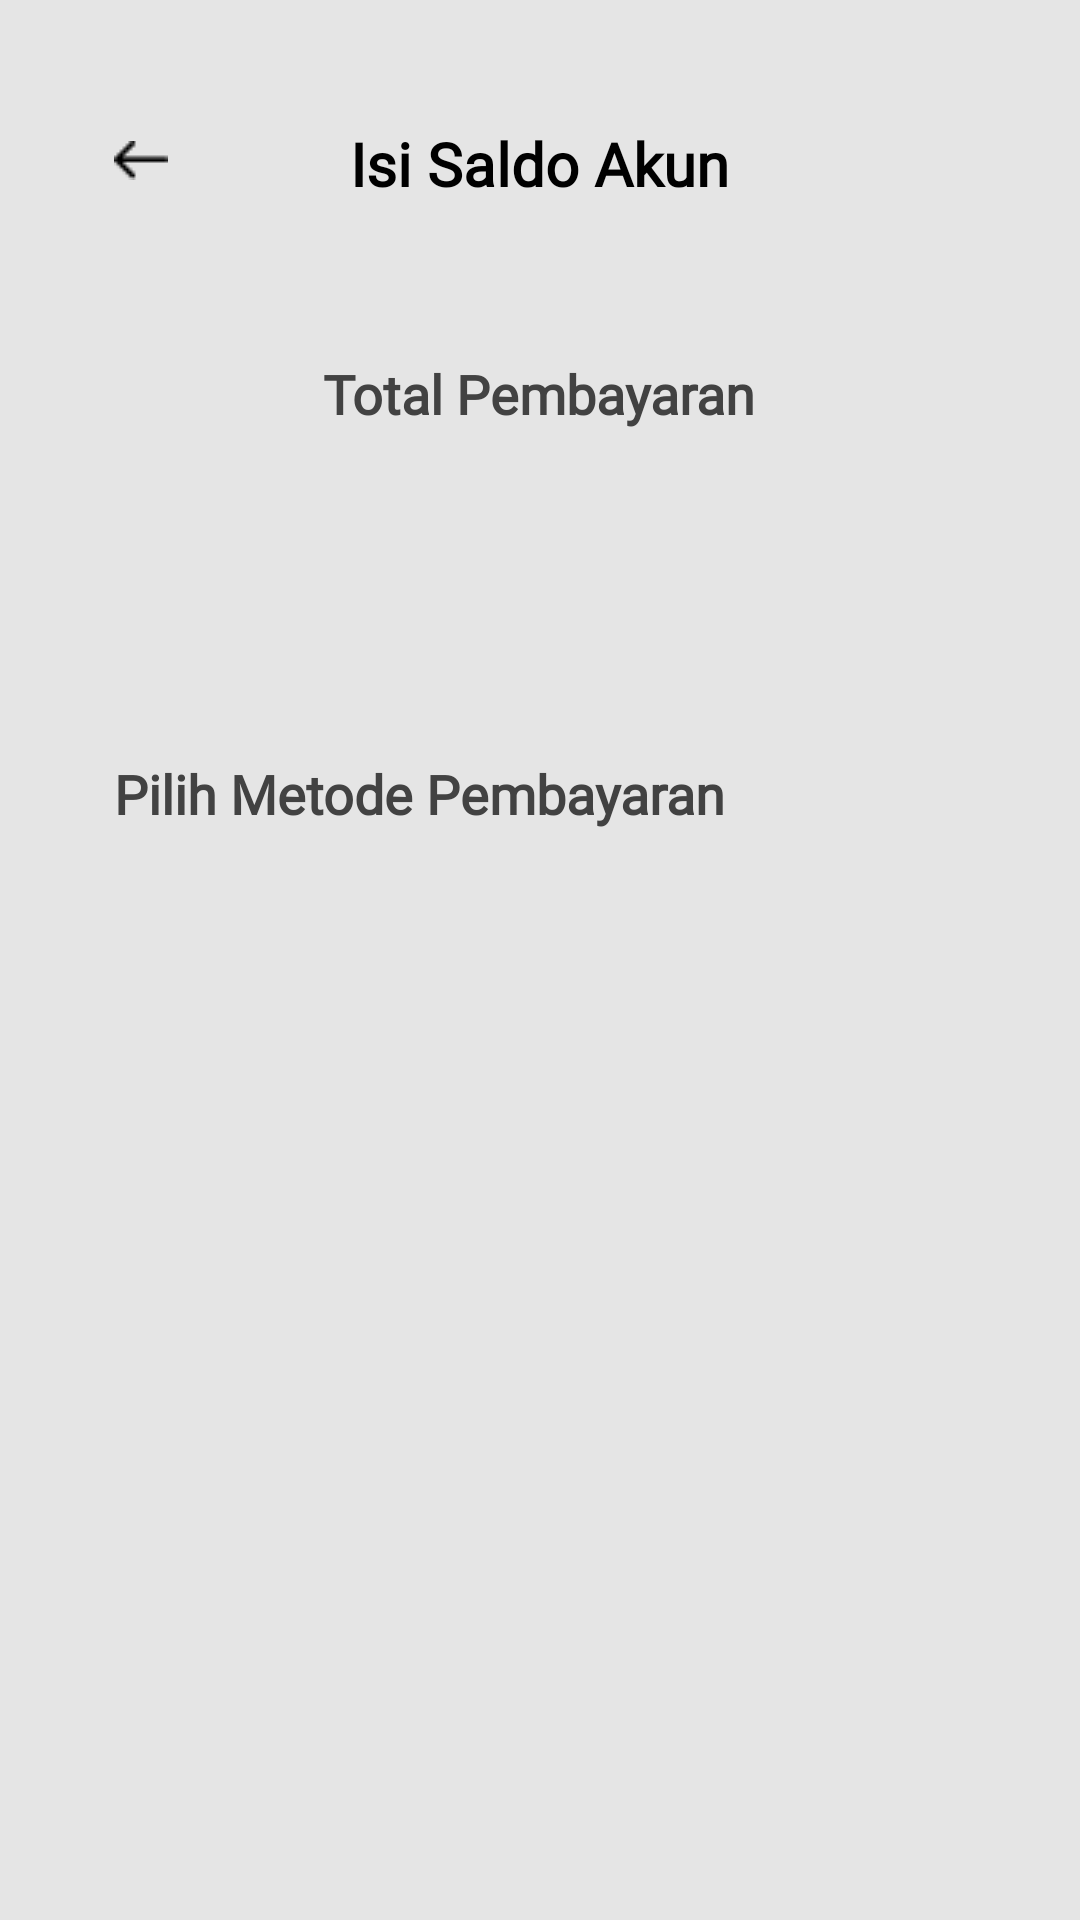

Icons on this 1080x1920 Android screen, each with its box as box(x1, y1, x2, y2):
back: box(114, 141, 168, 180)
